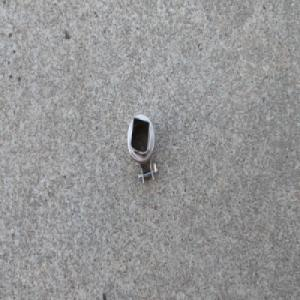MetalPart: (127, 115, 158, 188)
